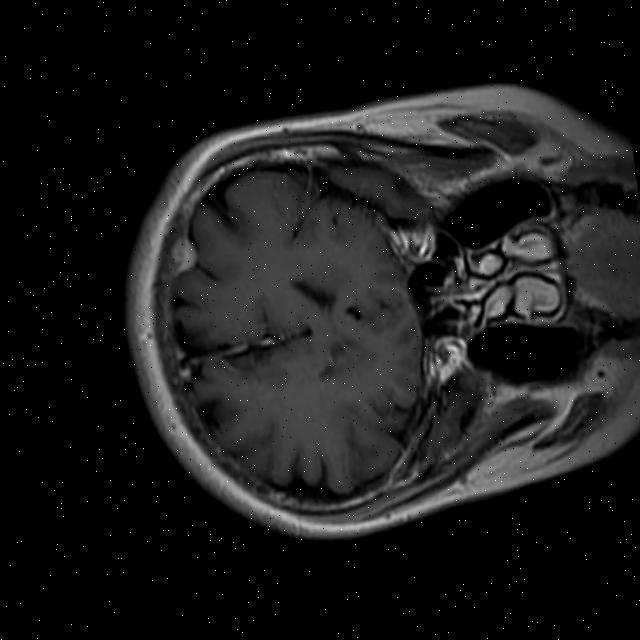Meningioma: (164, 234, 198, 277)
